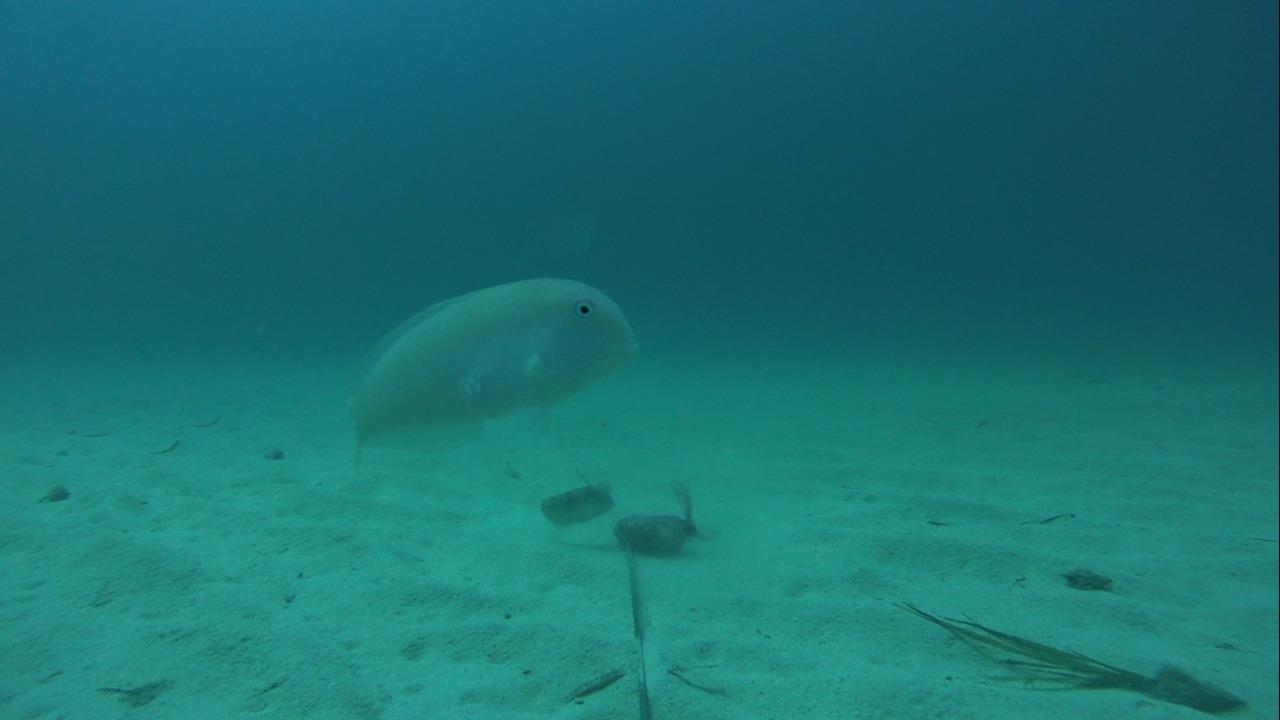raor: (343, 271, 642, 454), (534, 477, 621, 529)
